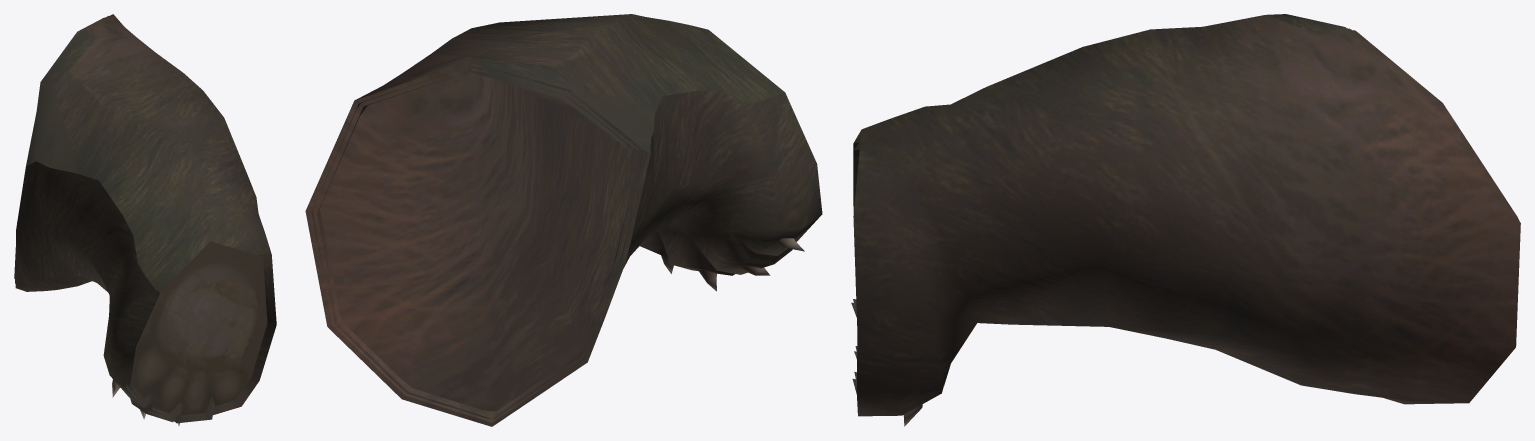
The model's file is right.fbx.
The picture shows the model from 3 angles, left to right: view 1: azimuth 30°, elevation 25°; view 2: azimuth 150°, elevation 25°; view 3: azimuth 270°, elevation 25°; orthographic projection. The views are drawn at different scales.
Visible parts, largest first — view 1: Red Panda; view 2: Red Panda; view 3: Red Panda.
Part boxes in pixels (<box>): Red Panda: <box>14,14,276,425</box>; Red Panda: <box>305,14,822,426</box>; Red Panda: <box>851,14,1520,426</box>.
Size of the model in its own units: 2989 by 3730 by 5372.
